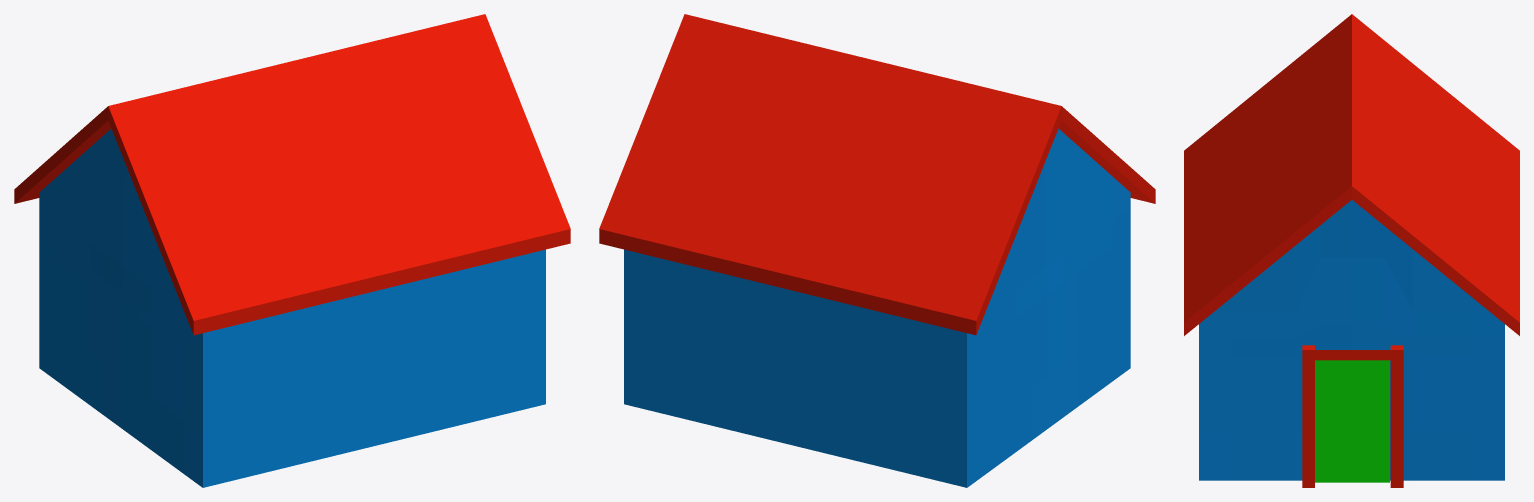
Rendered from barn.fbx.
The picture shows the model from 3 angles, left to right: view 1: azimuth 30°, elevation 25°; view 2: azimuth 150°, elevation 25°; view 3: azimuth 270°, elevation 25°; orthographic projection. The views are drawn at different scales.
Parts seen in each view (by area): view 1: Cube.016, Cube.015; view 2: Cube.016, Cube.015; view 3: Cube.016, Cube.015, Cube.017, Cube.029.
Part boxes in pixels (x1=…): Cube.016: x1=14, y1=14, x2=570, y2=335; Cube.015: x1=39, y1=128, x2=545, y2=487; Cube.016: x1=599, y1=14, x2=1155, y2=335; Cube.015: x1=624, y1=128, x2=1130, y2=487; Cube.016: x1=1184, y1=14, x2=1519, y2=335; Cube.015: x1=1199, y1=200, x2=1504, y2=480; Cube.017: x1=1315, y1=360, x2=1389, y2=482; Cube.029: x1=1302, y1=345, x2=1403, y2=487.
Bounding box in the file's own units: 222 × 182 × 181.
